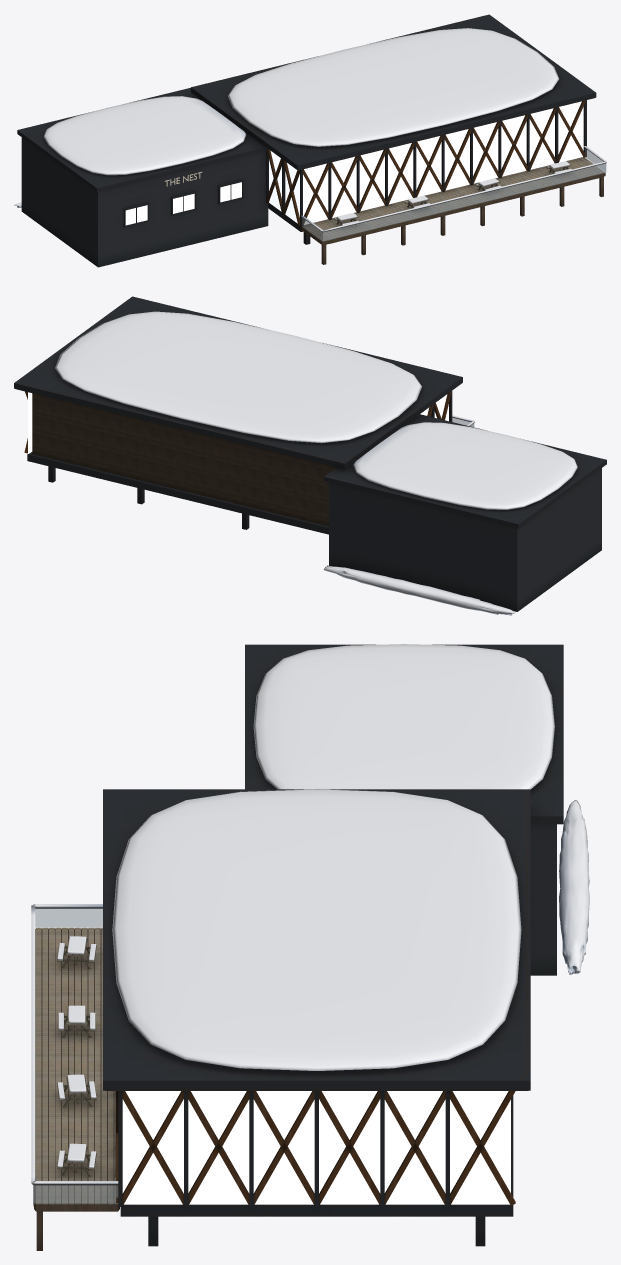
Rendered from the_nest.glb.
The picture shows the model from 3 angles, top to bottom: view 1: azimuth 30°, elevation 25°; view 2: azimuth 150°, elevation 25°; view 3: azimuth 270°, elevation 25°; orthographic projection. The views are drawn at different scales.
Parts seen in each view (by area): view 1: the_nest, the_nest_snow, the_nest_lit, the_nest_glass; view 2: the_nest, the_nest_snow, the_nest_lit; view 3: the_nest_snow, the_nest, the_nest_lit, the_nest_glass.
Part boxes in pixels (left/top/right/bottom): the_nest: left=17, top=14, right=605, bottom=267; the_nest_snow: left=14, top=28, right=606, bottom=231; the_nest_lit: left=125, top=101, right=583, bottom=225; the_nest_glass: left=302, top=148, right=606, bottom=241; the_nest: left=14, top=296, right=606, bottom=611; the_nest_snow: left=55, top=311, right=577, bottom=615; the_nest_lit: left=28, top=392, right=448, bottom=453; the_nest_snow: left=31, top=644, right=589, bottom=1184; the_nest: left=32, top=644, right=563, bottom=1250; the_nest_lit: left=122, top=1091, right=510, bottom=1204; the_nest_glass: left=33, top=908, right=118, bottom=1203.
Size of the model in its own units: 49.12 by 9.9 by 25.59.
5 materials, 1 textured.
